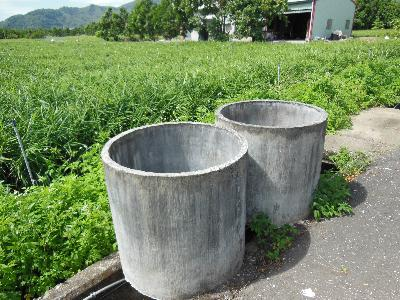bucket: (101, 120, 250, 299), (215, 99, 330, 232)
